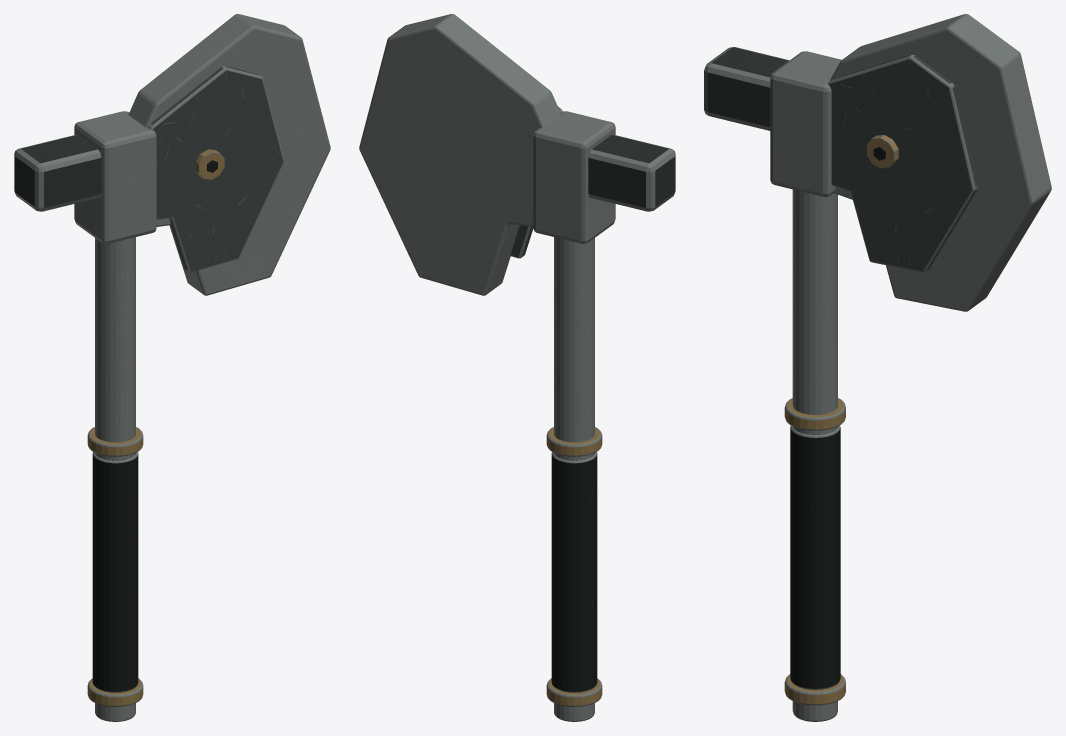
The model's file is axe-t4.glb.
3 renders of one model, left to right at view 1: azimuth 30°, elevation 25°; view 2: azimuth 150°, elevation 25°; view 3: azimuth 330°, elevation 25°, orthographic. The views are drawn at different scales.
Parts seen in each view (by area): view 1: Axe painted cheek, Axe continuous cutting edge, Continuous two-hand wrap, Steel shaft, Axe shaft socket, Counterweight poll, Grip ferrule.001, Grip ferrule, Axe cheek pin; view 2: Axe continuous cutting edge, Continuous two-hand wrap, Steel shaft, Axe shaft socket, Counterweight poll, Grip ferrule.001, Grip ferrule, Axe painted cheek; view 3: Axe continuous cutting edge, Axe painted cheek, Continuous two-hand wrap, Steel shaft, Axe shaft socket, Counterweight poll, Grip ferrule.001, Grip ferrule, Axe cheek pin.
Boxes of the visible parts, x1,y1,x2,y2 form: Axe painted cheek: (147,66,284,272); Axe continuous cutting edge: (128,14,330,295); Continuous two-hand wrap: (92,452,138,692); Steel shaft: (95,237,135,721); Axe shaft socket: (74,111,156,243); Counterweight poll: (14,134,101,211); Grip ferrule.001: (87,427,143,456); Grip ferrule: (87,678,143,706); Axe cheek pin: (195,149,224,179); Axe continuous cutting edge: (359,14,561,295); Continuous two-hand wrap: (551,452,597,692); Steel shaft: (554,237,594,721); Axe shaft socket: (533,111,615,243); Counterweight poll: (588,134,675,211); Grip ferrule.001: (546,427,602,456); Grip ferrule: (546,678,602,706); Axe painted cheek: (510,106,562,258); Axe continuous cutting edge: (830,14,1051,311); Axe painted cheek: (828,54,977,272); Continuous two-hand wrap: (790,425,840,689); Steel shaft: (792,189,837,721); Axe shaft socket: (770,51,841,196); Counterweight poll: (704,47,789,130); Grip ferrule.001: (784,398,845,430); Grip ferrule: (784,674,845,705); Axe cheek pin: (866,135,898,168).
Size of the model in its own units: 1.03 by 2.2 by 0.212.
5 materials, 5 textured.
